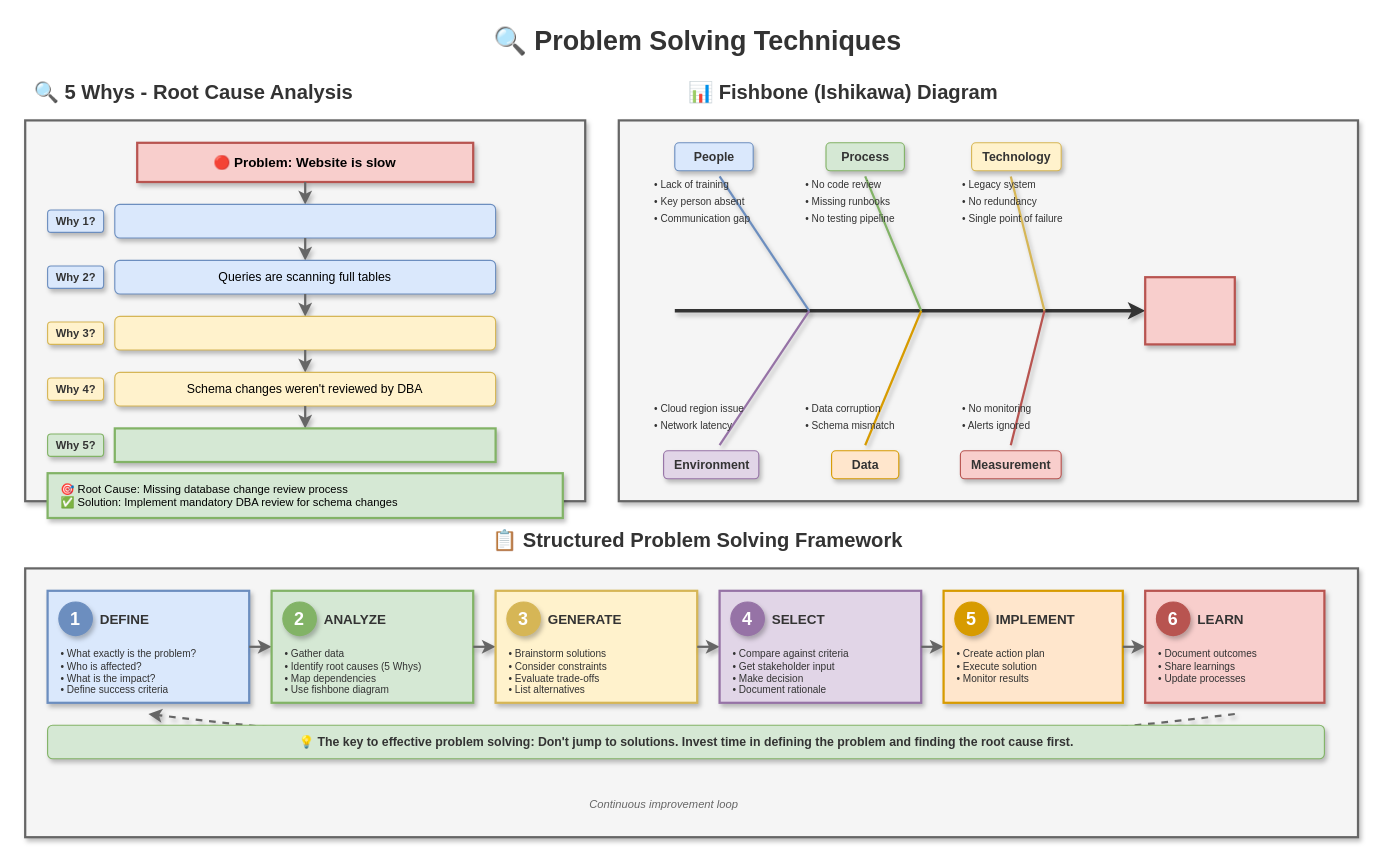
The diagram is 1384 pixels wide and 865 high, and some of its shapes have lost their labels. Here are the shapes that lost their labels. From the top down, the centre of each, then its label:
(305,222): Database queries are taking too long
(1190,312): Problem: System Outage
(305,334): Indexes are missing on frequently queried columns
(306,446): No process for database change reviews
